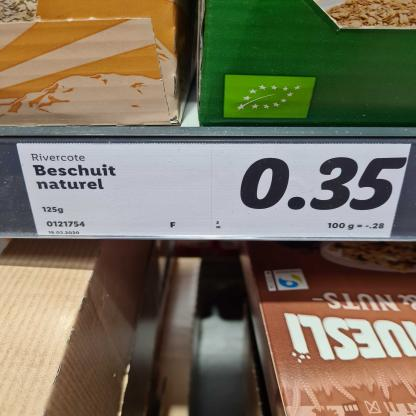prtg: (17, 144, 412, 240)
